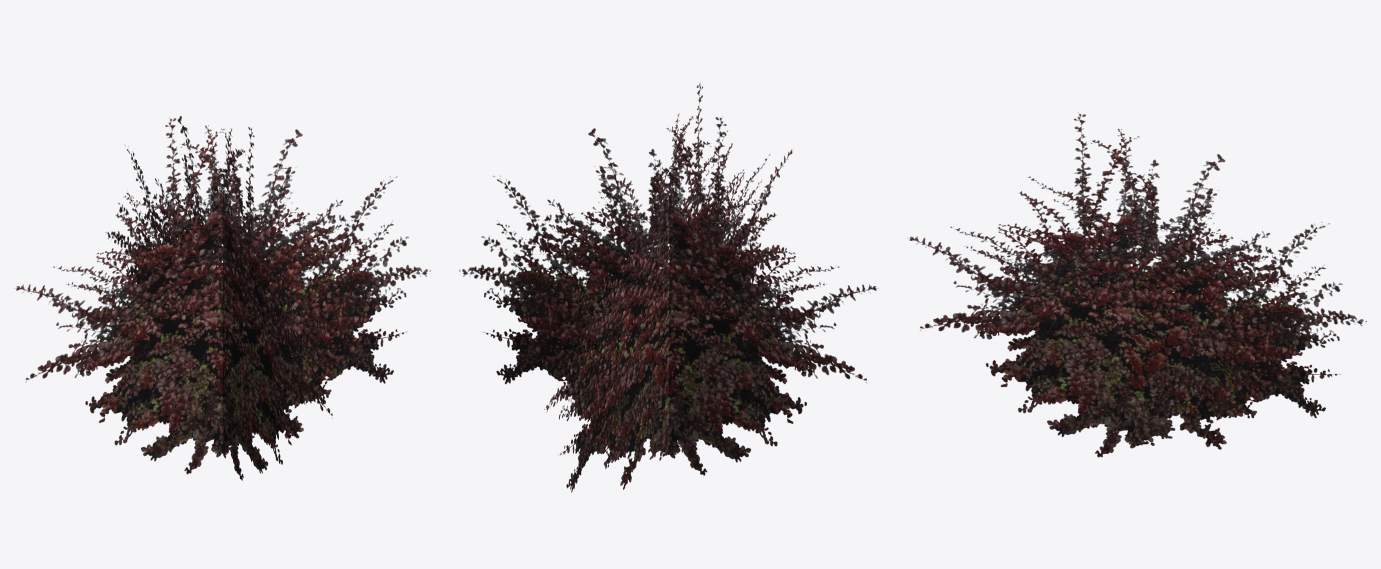
File: bush5.glb
3 renders of one model, left to right at view 1: azimuth 30°, elevation 25°; view 2: azimuth 150°, elevation 25°; view 3: azimuth 270°, elevation 25°, orthographic. The views are drawn at different scales.
Parts seen in each view (by area): view 1: bush5; view 2: bush5; view 3: bush5.
Part boxes in pixels (x1=…): bush5: x1=14, y1=116, x2=430, y2=480; bush5: x1=459, y1=83, x2=878, y2=492; bush5: x1=909, y1=114, x2=1366, y2=457.
Bounding box in the file's own units: 0.2672 × 0.2223 × 0.2672.
Materials: 1 (1 with a texture image).
